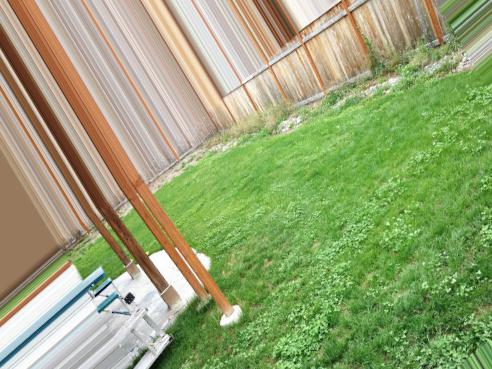patch: (230, 256, 237, 265)
